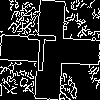T: (25, 25, 58, 72)
